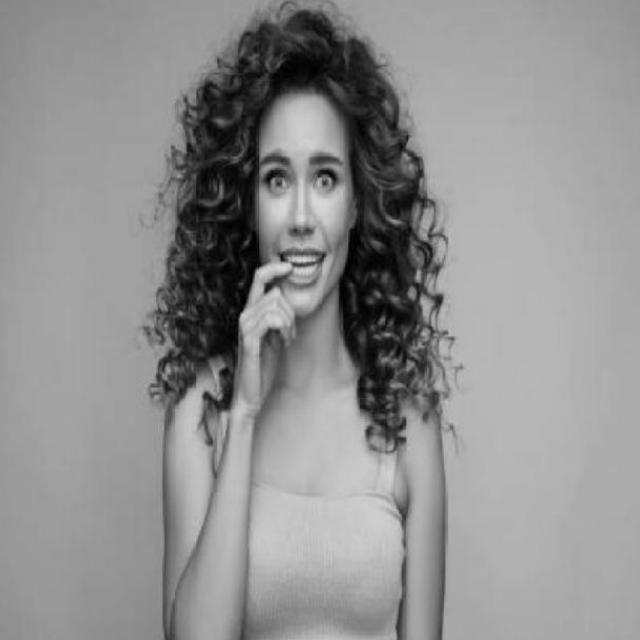Happy: (226, 85, 428, 355)
